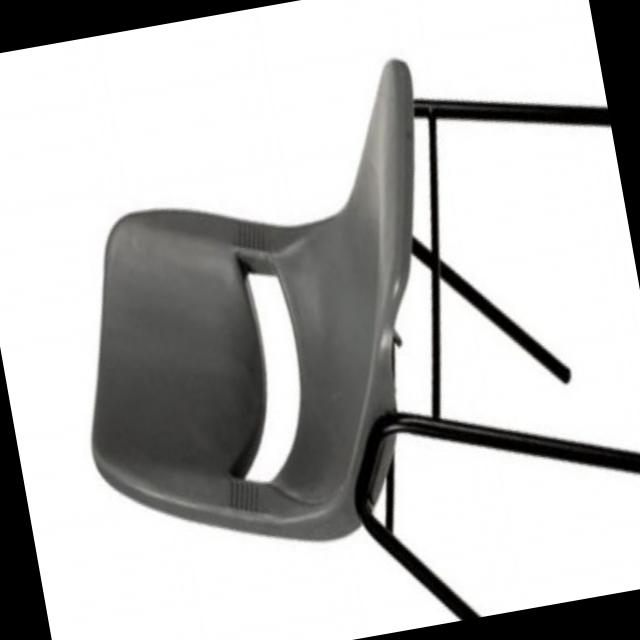Chair: (26, 20, 640, 640)
